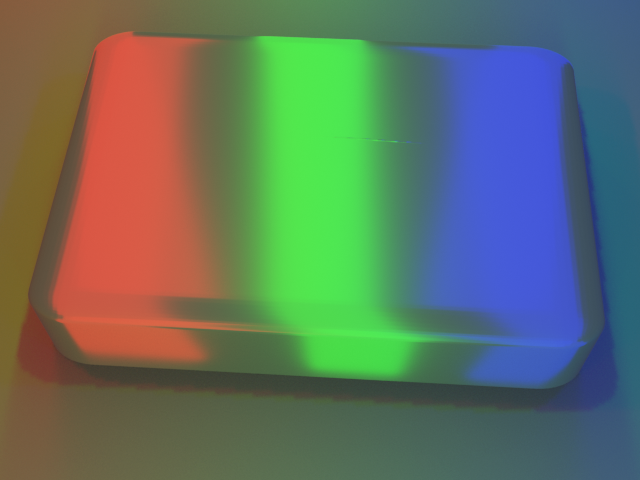scratch: (247, 58, 507, 202)
